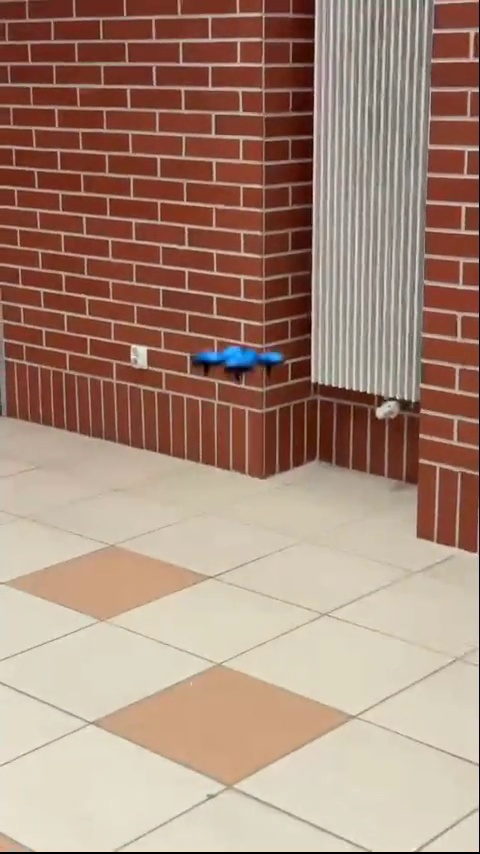drone: (194, 342, 289, 380)
